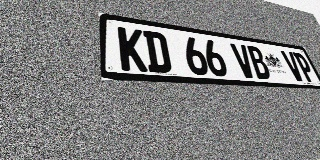6: (181, 36, 210, 76), (201, 39, 229, 77)
B: (245, 45, 272, 80)
D: (143, 30, 173, 73)
K: (118, 26, 148, 72)
P: (292, 52, 317, 82)
V: (230, 43, 257, 79), (280, 50, 306, 82)
